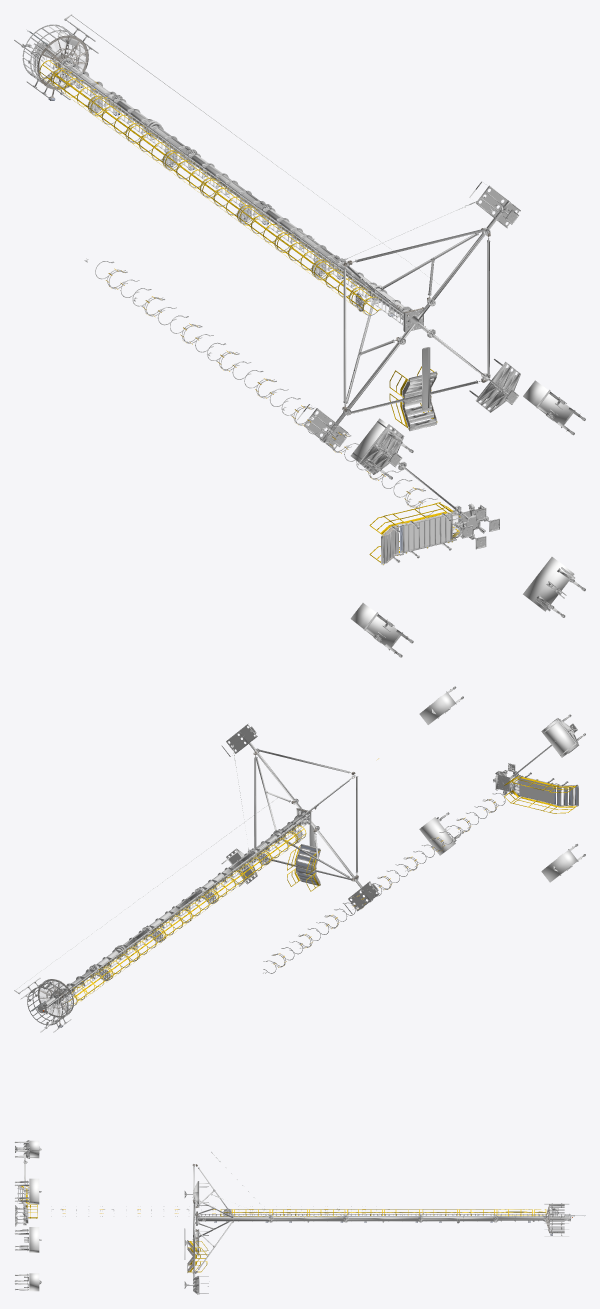
3 renders of one model, top to bottom at view 1: azimuth 30°, elevation 25°; view 2: azimuth 150°, elevation 25°; view 3: azimuth 270°, elevation 25°, orthographic. The views are drawn at different scales.
Visible parts, largest first — view 1: operation_mobile_02, operation_mobile_03, operation_mobile_14, operation_mobile_09, operation_mobile_11; view 2: operation_mobile_02, operation_mobile_03, operation_mobile_14, operation_mobile_11, operation_mobile_09, operation_mobile_10, operation_mobile_08; view 3: operation_mobile_02, operation_mobile_03, operation_mobile_14.
Part boxes in pixels (x1,y1,x2,y2): operation_mobile_02: (14,14,585,657); operation_mobile_03: (39,60,460,564); operation_mobile_14: (350,380,574,648); operation_mobile_09: (36,35,458,564); operation_mobile_11: (404,515,450,550); operation_mobile_02: (14,686,585,1032); operation_mobile_03: (69,775,576,1006); operation_mobile_14: (419,692,577,882); operation_mobile_11: (520,777,553,803); operation_mobile_09: (38,777,578,1025); operation_mobile_10: (39,778,519,1016); operation_mobile_08: (296,786,577,883); operation_mobile_02: (14,1140,574,1294); operation_mobile_03: (20,1185,546,1272); operation_mobile_14: (29,1140,39,1291).
Bounding box in the file's own units: 15.3 × 16.51 × 45.79.
